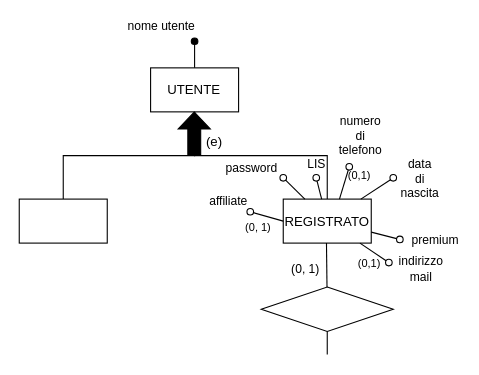
This 479x375 diagram has some shape labels left out. The box of each missing label's shape, as (x1, y1, x2, y2) in pixels:
gestione (S-C): (260, 286, 393, 331)
GUEST: (18, 198, 107, 243)
